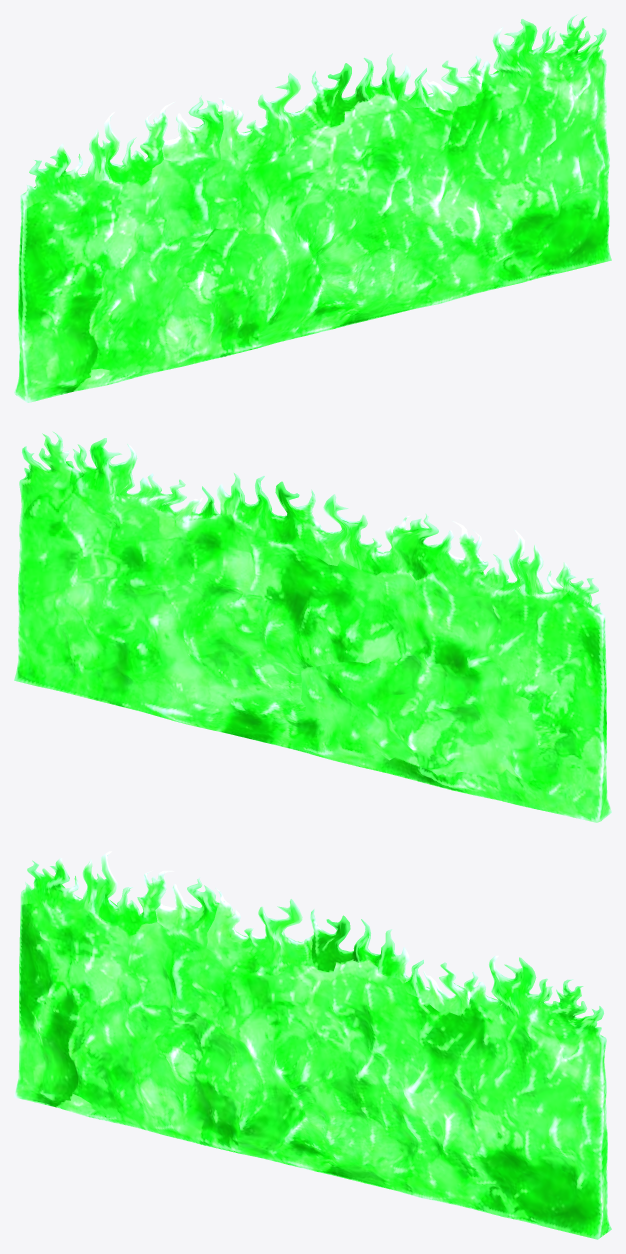
The model's file is MZ4250 - Wall of Fire_green.glb.
The picture shows the model from 3 angles, top to bottom: view 1: azimuth 30°, elevation 25°; view 2: azimuth 150°, elevation 25°; view 3: azimuth 330°, elevation 25°; orthographic projection.
Parts seen in each view (by area): view 1: Wall of Fire.003; view 2: Wall of Fire.003; view 3: Wall of Fire.003.
Part boxes in pixels (x1,y1,x2,y2): Wall of Fire.003: [14, 14, 611, 402]; Wall of Fire.003: [14, 431, 611, 822]; Wall of Fire.003: [14, 851, 611, 1239].
Size of the model in its own units: 7.1 by 3.07 by 0.681.
1 material, 1 textured.
